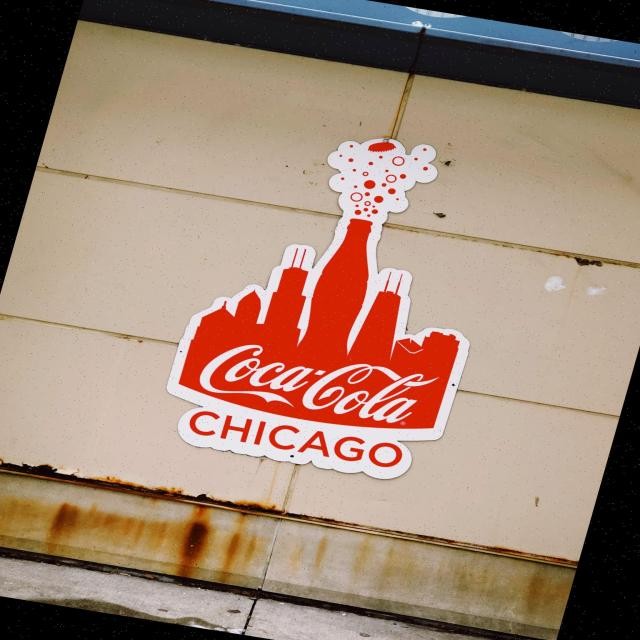coca-cola: (184, 330, 456, 438)
